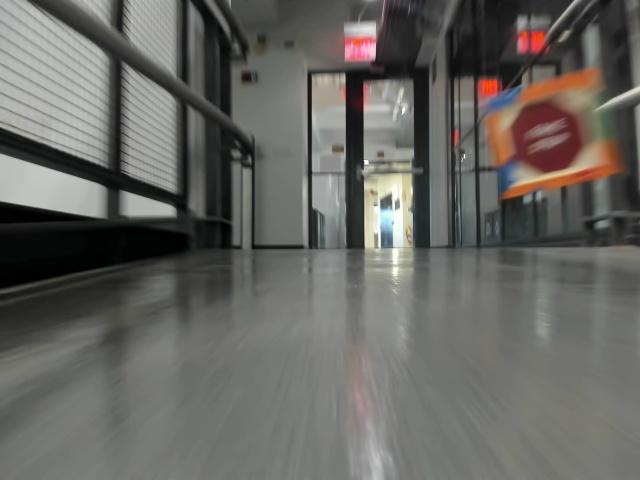Fake Stop: (500, 106, 577, 182)
